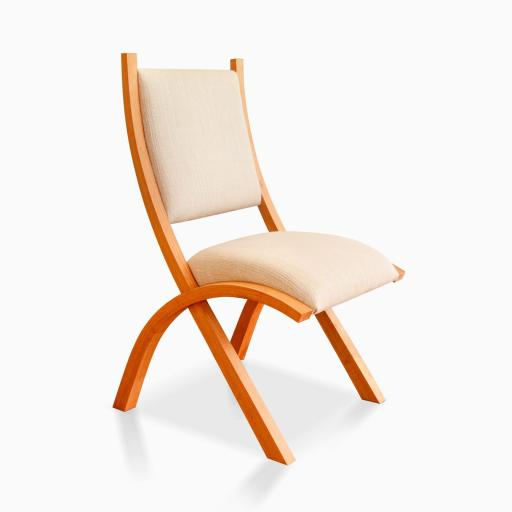chair: (90, 52, 434, 470)
